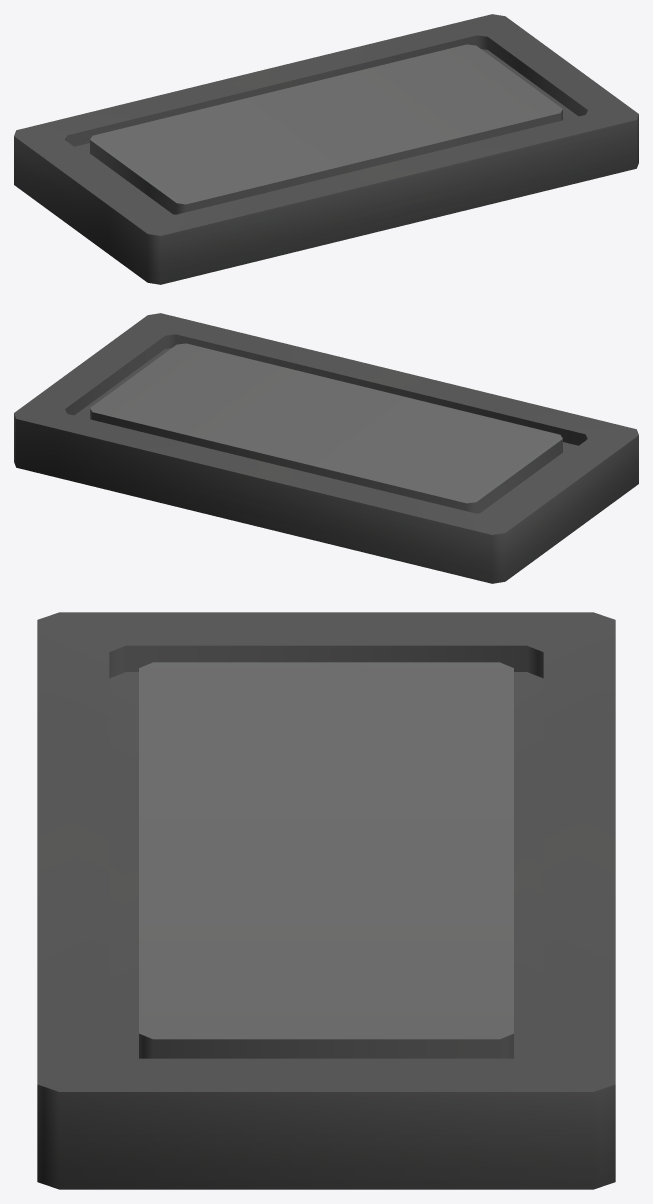
The model's file is Grave_7_1.obj.
3 renders of one model, top to bottom at view 1: azimuth 30°, elevation 25°; view 2: azimuth 150°, elevation 25°; view 3: azimuth 270°, elevation 25°, orthographic. The views are drawn at different scales.
Parts seen in each view (by area): view 1: Grave_7_1; view 2: Grave_7_1; view 3: Grave_7_1.
Part boxes in pixels (x1,y1,x2,y2): Grave_7_1: (14,14,638,284); Grave_7_1: (14,313,638,583); Grave_7_1: (37,612,615,1189).
Bounding box in the file's own units: 1.69 × 0.1625 × 0.8601.
